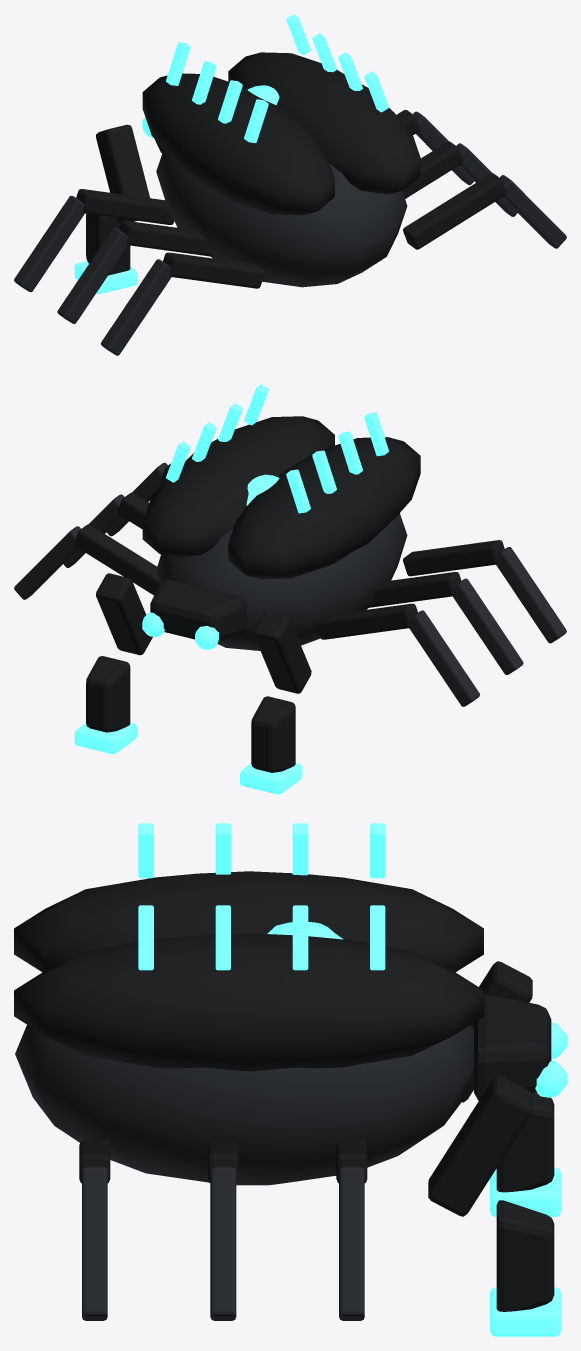
Rendered from warden.glb.
3 renders of one model, top to bottom at view 1: azimuth 30°, elevation 25°; view 2: azimuth 150°, elevation 25°; view 3: azimuth 270°, elevation 25°, orthographic. The views are drawn at different scales.
Visible parts, largest first — view 1: trunk, carapaceL, carapaceR, leg_upperR2, arm_upperL, leg_upperL2, leg_lowerL0, leg_lowerL1, leg_lowerL2, leg_upperL0, leg_upperL1, leg_lowerR2 (+13 smaller); view 2: carapaceL, carapaceR, trunk, brow, arm_lowerR, arm_lowerL, arm_upperL, arm_upperR, leg_upperR0, leg_upperL2, leg_lowerL1, leg_lowerL2 (+16 smaller); view 3: carapaceR, trunk, carapaceL, arm_upperR, brow, arm_lowerR, leg_lowerR1, leg_lowerR0, leg_lowerR2, arm_lowerL, knuckleR, knuckleL (+13 smaller).
Part boxes in pixels (box(x1,y1,x2,y2)): trunk: box(156, 149, 407, 287); carapaceL: box(142, 73, 334, 215); carapaceR: box(228, 52, 420, 194); leg_upperR2: box(403, 173, 506, 249); arm_upperL: box(96, 124, 149, 224); leg_upperL2: box(163, 252, 264, 288); leg_lowerL0: box(14, 195, 84, 292); leg_lowerL1: box(57, 227, 128, 323); leg_lowerL2: box(101, 259, 171, 355); leg_upperL0: box(76, 189, 174, 224); leg_upperL1: box(119, 220, 214, 256); leg_lowerR2: box(500, 175, 566, 248); carapaceL: box(228, 437, 420, 579); carapaceR: box(142, 416, 334, 558); trunk: box(156, 513, 407, 650); brow: box(150, 579, 246, 640); arm_lowerR: box(86, 656, 130, 732); arm_lowerL: box(251, 696, 295, 772); arm_upperL: box(253, 612, 311, 693); arm_upperR: box(96, 573, 152, 655); leg_upperR0: box(74, 524, 160, 595); leg_upperL2: box(403, 540, 504, 576); leg_lowerL1: box(453, 578, 523, 674); leg_lowerL2: box(496, 547, 566, 643); carapaceR: box(14, 933, 483, 1071); trunk: box(15, 1025, 473, 1185); carapaceL: box(14, 871, 483, 972); arm_upperR: box(428, 1075, 532, 1216); brow: box(474, 994, 551, 1100); arm_lowerR: box(496, 1200, 554, 1311); leg_lowerR1: box(210, 1167, 236, 1320); leg_lowerR0: box(339, 1167, 364, 1320); leg_lowerR2: box(82, 1167, 107, 1320); arm_lowerL: box(496, 1092, 554, 1192); knuckleR: box(490, 1287, 560, 1336); knuckleL: box(490, 1167, 560, 1216).
Size of the model in its own units: 6.11 by 3.42 by 4.3.
